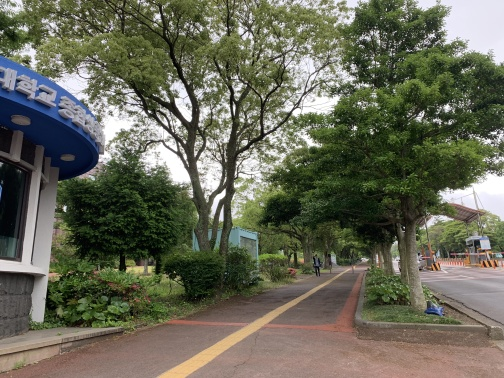Security Office: (1, 55, 110, 369)
